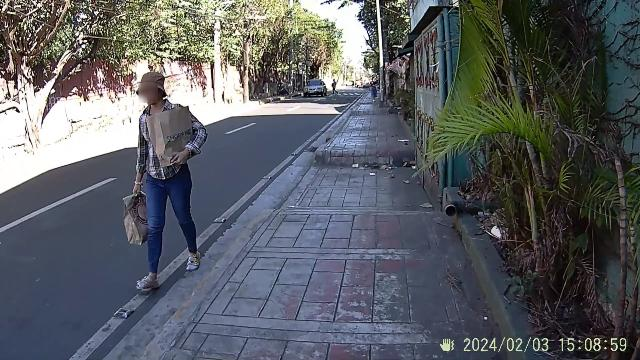utility_post: (372, 3, 392, 108)
